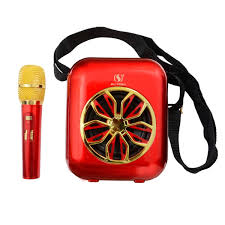microphone: (11, 63, 50, 182)
speaker: (63, 55, 168, 185)
